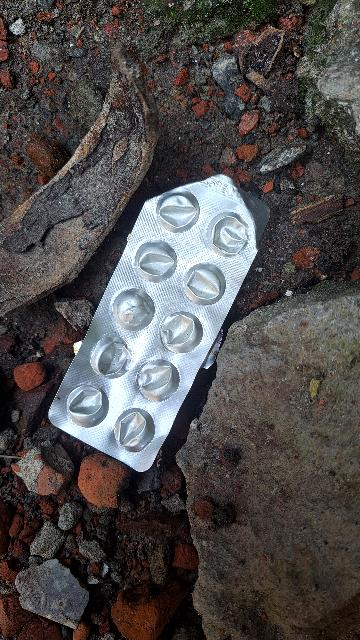medicine: (42, 170, 273, 476)
